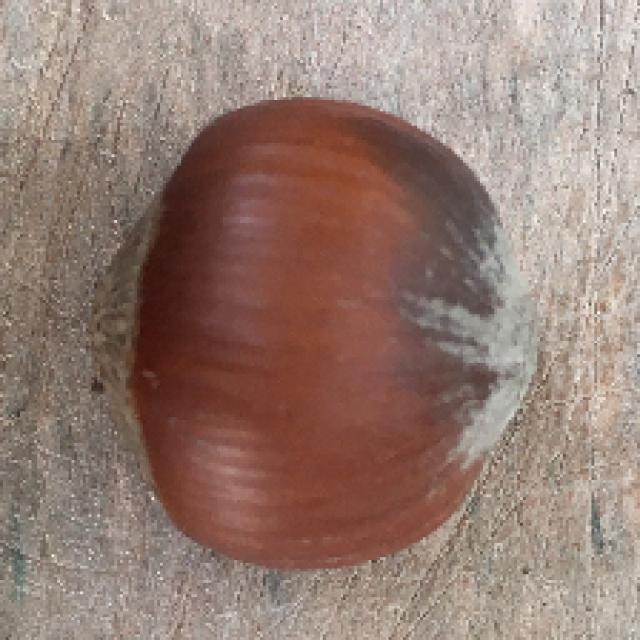DamagedHazelnut: (90, 95, 547, 567)
